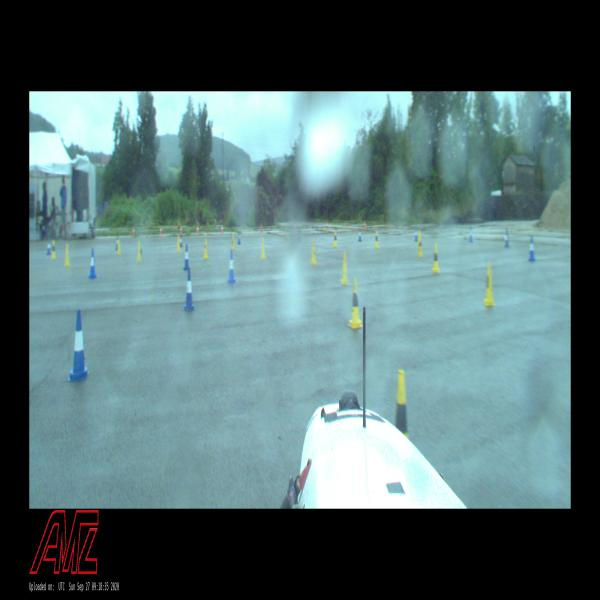blue_cone: (69, 310, 89, 380), (183, 269, 195, 310), (228, 252, 235, 283), (88, 250, 96, 277), (528, 236, 535, 260), (183, 245, 188, 269), (504, 228, 508, 248), (468, 226, 472, 243), (47, 239, 51, 254), (358, 228, 361, 241), (415, 228, 418, 241), (238, 232, 241, 244), (180, 235, 182, 247), (116, 238, 118, 250)
yellow_cone: (395, 370, 408, 439), (348, 278, 363, 328), (484, 265, 494, 305), (432, 244, 439, 273), (342, 252, 348, 283), (64, 243, 70, 266), (310, 241, 315, 265), (137, 242, 142, 262), (418, 233, 422, 257), (203, 240, 208, 259), (52, 240, 56, 259), (333, 230, 337, 247), (375, 231, 378, 248), (177, 236, 180, 252), (232, 235, 235, 249), (262, 238, 264, 258), (118, 241, 120, 255)
